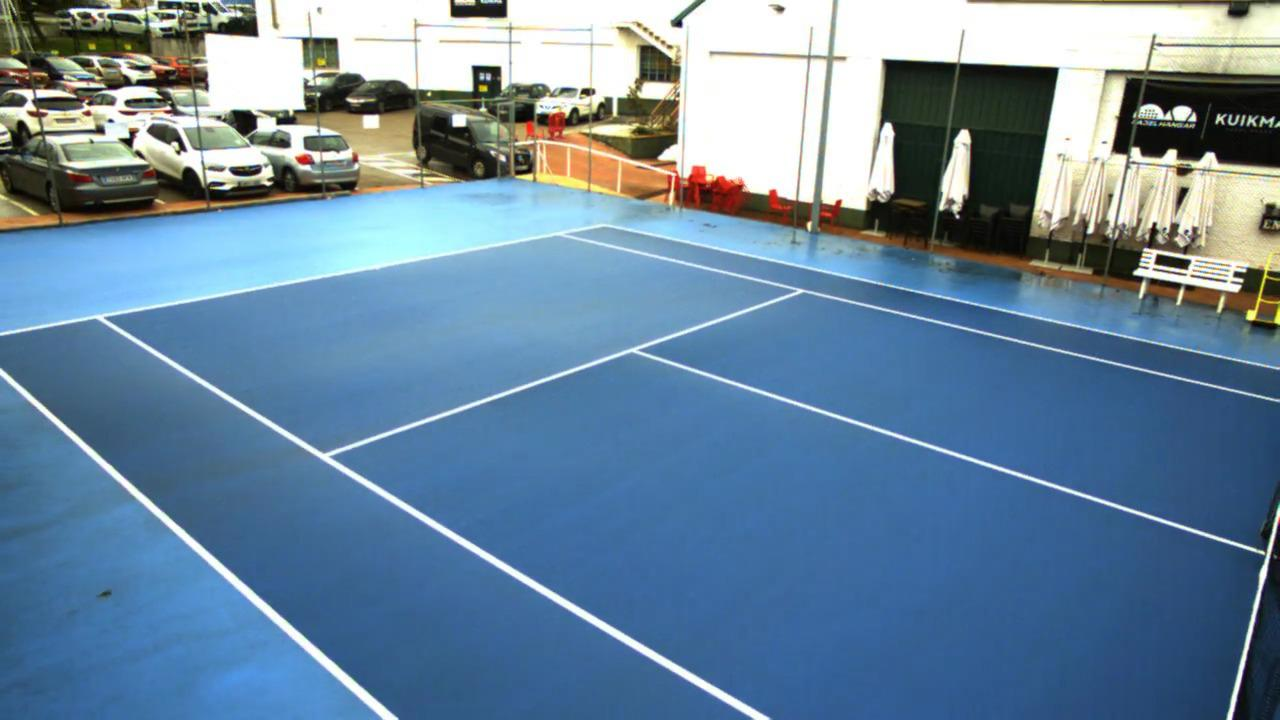cancha_tenis: (99, 233, 1280, 720)
point_f1: (87, 304, 118, 328)
point_f2: (547, 221, 583, 246)
point_fc1: (369, 261, 388, 275)
point_i1: (303, 443, 346, 470)
point_i2: (783, 276, 815, 301)
point_ic1: (617, 336, 652, 361)
